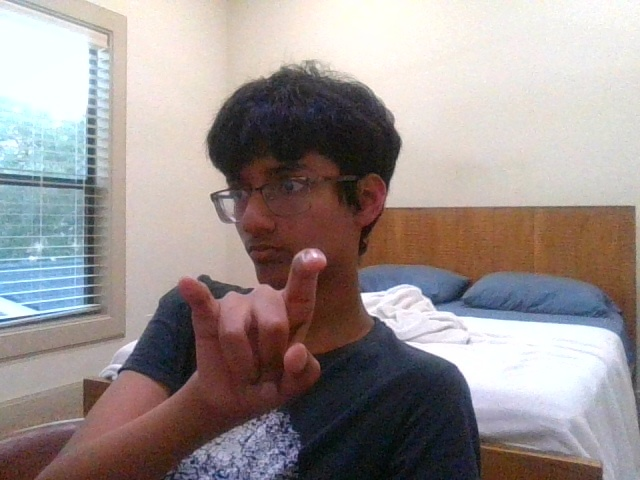ly: (178, 249, 327, 410)
